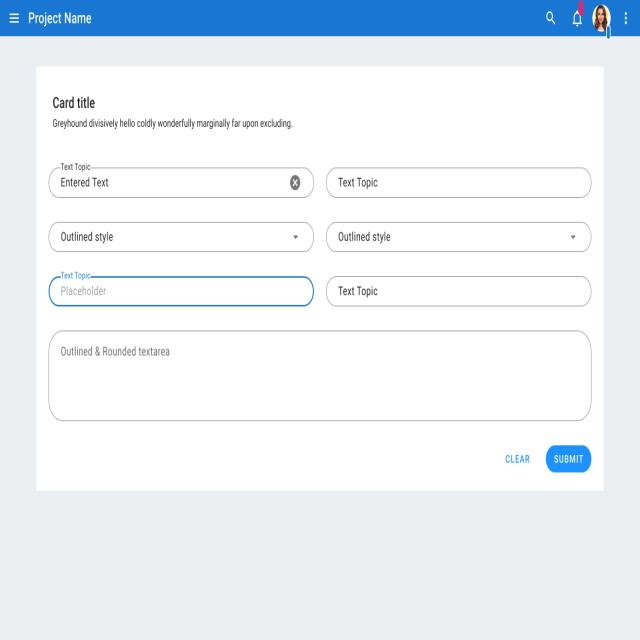QLabel: (52, 116, 294, 131), (27, 10, 92, 28), (51, 93, 96, 112), (553, 453, 584, 465), (503, 454, 530, 464)
VAppBar: (0, 0, 640, 38)
VBadge: (592, 4, 613, 38), (572, 3, 586, 30)
VBtn: (546, 444, 592, 474), (498, 444, 538, 474)
VCard: (37, 66, 605, 492)
VCombobox: (326, 221, 591, 254), (48, 221, 314, 253)
VIcon: (542, 8, 559, 28), (6, 8, 21, 28), (622, 10, 630, 28)
VTextField: (48, 270, 314, 310), (48, 162, 314, 199), (326, 166, 592, 199), (326, 275, 592, 308)
VTextarea: (48, 328, 592, 422)
